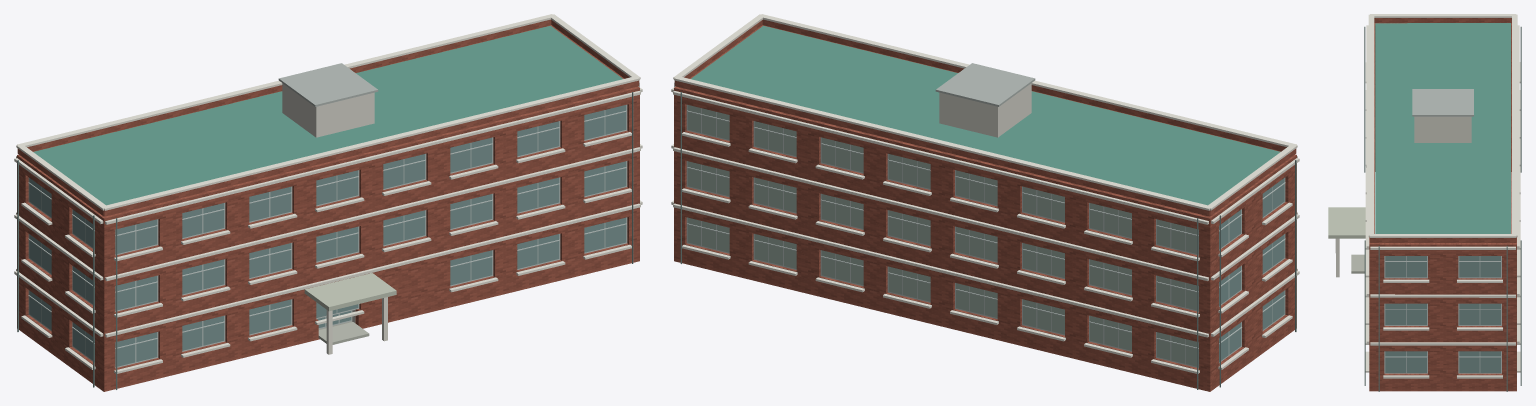
3 views of the same model, side by side, from view 1: azimuth 30°, elevation 25°; view 2: azimuth 150°, elevation 25°; view 3: azimuth 270°, elevation 25° (orthographic). The views are drawn at different scales.
Parts seen in each view (by area): view 1: northclass__brick, northclass__roof, northclass__glass, northclass__trim, northclass__frame, northclass__wall, northclass__greyroof, northclass__entry, northclass__metal, northclass__threshold-2-19; view 2: northclass__brick, northclass__roof, northclass__sideglass, northclass__trim, northclass__frame, northclass__glass, northclass__wall, northclass__greyroof, northclass__metal; view 3: northclass__roof, northclass__brick, northclass__trim, northclass__glass, northclass__metal, northclass__greyroof, northclass__wall, northclass__frame, northclass__entry, northclass__threshold-2-19.
Boxes of the visible parts, <box> form: northclass__brick: <box>17,19,639,391</box>; northclass__roof: <box>33,25,622,205</box>; northclass__glass: <box>29,105,626,366</box>; northclass__trim: <box>14,14,642,373</box>; northclass__frame: <box>28,104,627,368</box>; northclass__wall: <box>282,83,374,322</box>; northclass__greyroof: <box>278,63,378,106</box>; northclass__entry: <box>304,273,396,311</box>; northclass__metal: <box>17,83,639,389</box>; northclass__threshold-2-19: <box>318,322,369,344</box>; northclass__brick: <box>674,19,1296,391</box>; northclass__roof: <box>691,25,1280,205</box>; northclass__sideglass: <box>687,105,1198,367</box>; northclass__trim: <box>671,14,1299,373</box>; northclass__frame: <box>686,104,1285,368</box>; northclass__glass: <box>1219,178,1284,361</box>; northclass__wall: <box>939,83,1031,137</box>; northclass__greyroof: <box>935,63,1035,106</box>; northclass__metal: <box>674,83,1296,389</box>; northclass__roof: <box>1375,23,1510,233</box>; northclass__brick: <box>1369,18,1516,391</box>; northclass__trim: <box>1335,14,1520,378</box>; northclass__glass: <box>1385,256,1500,372</box>; northclass__metal: <box>1364,26,1521,391</box>; northclass__greyroof: <box>1412,89,1473,116</box>; northclass__wall: <box>1414,116,1471,142</box>; northclass__frame: <box>1384,256,1501,373</box>; northclass__entry: <box>1328,207,1365,238</box>; northclass__threshold-2-19: <box>1351,254,1364,273</box>.
Bounding box in the file's own units: 35.5 × 13.08 × 12.86.
12 materials, 1 textured.
